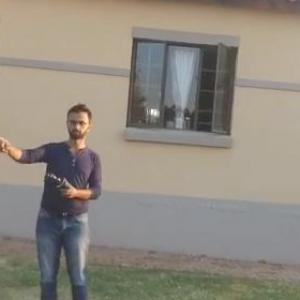follow: (0, 98, 113, 299)
